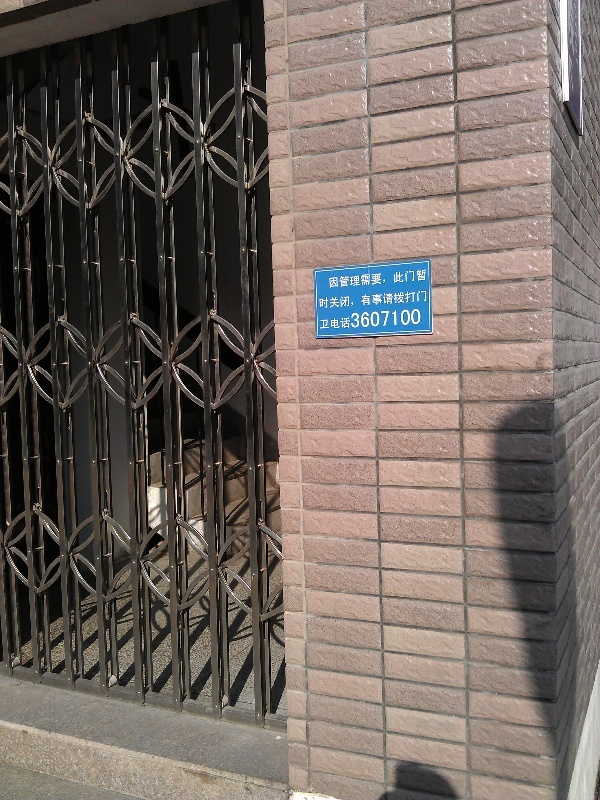text: (568, 1, 576, 56), (337, 267, 352, 290), (353, 267, 368, 290), (369, 267, 384, 290), (385, 267, 400, 290), (401, 267, 416, 290), (321, 308, 336, 331), (337, 308, 352, 331), (353, 308, 368, 331), (369, 308, 384, 331), (385, 308, 400, 331), (401, 308, 416, 331), (321, 289, 336, 311), (337, 289, 352, 311), (353, 289, 368, 311), (369, 289, 384, 311), (385, 289, 400, 311), (401, 289, 416, 311), (417, 267, 428, 290), (417, 289, 428, 311), (327, 267, 336, 290), (417, 308, 422, 331), (575, 1, 576, 65), (577, 1, 578, 65), (318, 289, 320, 311), (319, 308, 320, 331)
